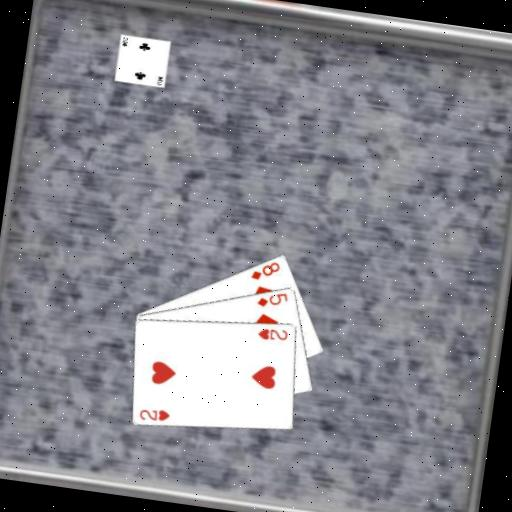2H: (136, 403, 173, 425), (255, 323, 291, 344)
5D: (254, 286, 291, 312)
8D: (247, 256, 282, 285)
